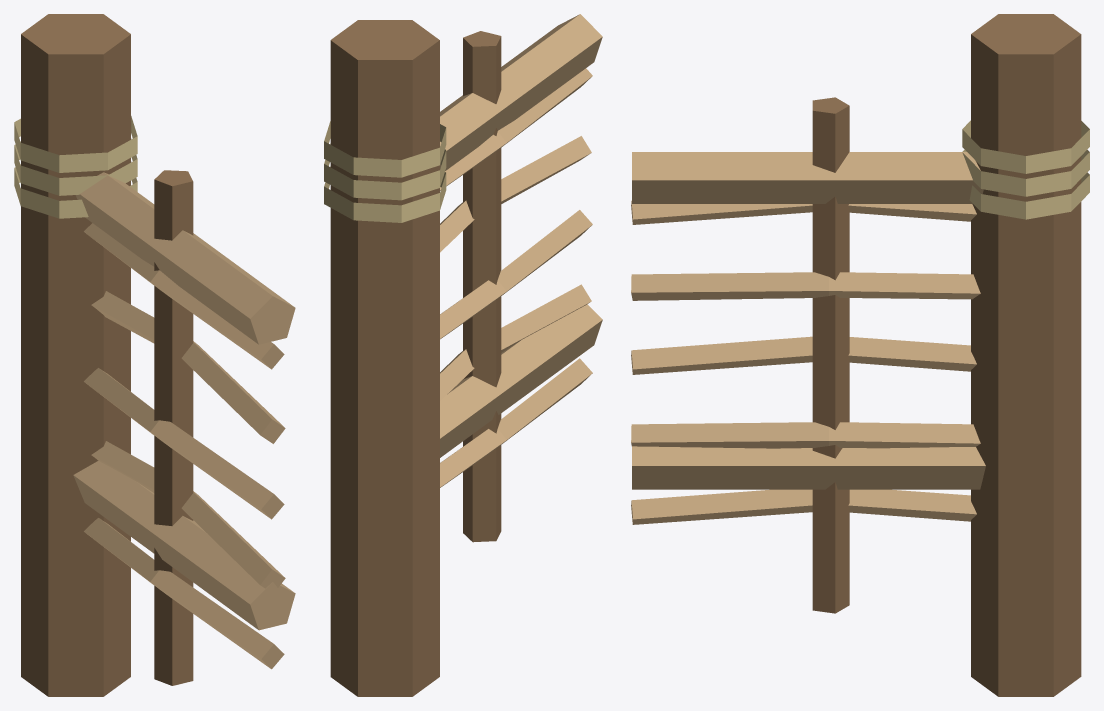
The model's file is pen_fence_04.glb.
3 views of the same model, side by side, from view 1: azimuth 30°, elevation 25°; view 2: azimuth 150°, elevation 25°; view 3: azimuth 270°, elevation 25° (orthographic).
Visible parts, largest first — view 1: pen_fence_04; view 2: pen_fence_04; view 3: pen_fence_04.
Part boxes in pixels (bbox=[...]): pen_fence_04: bbox=[14, 14, 295, 696]; pen_fence_04: bbox=[324, 14, 602, 696]; pen_fence_04: bbox=[631, 14, 1089, 696].
Size of the model in its own units: 0.162 by 0.9 by 0.5823.
